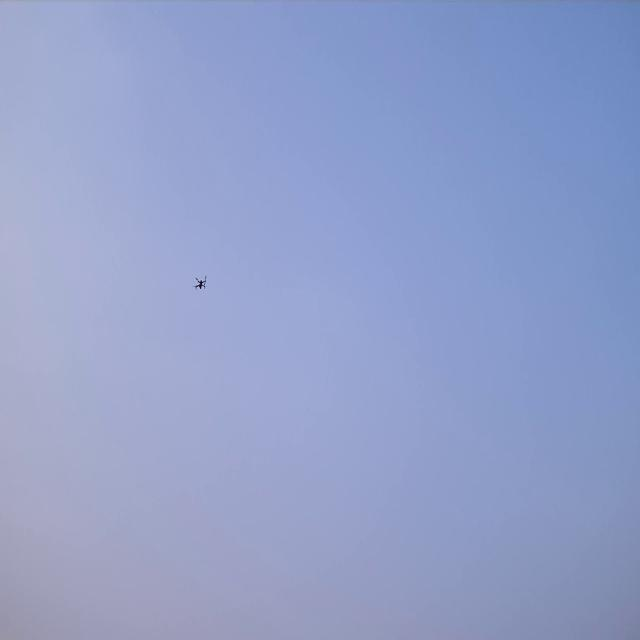UAV: (193, 273, 207, 292)
